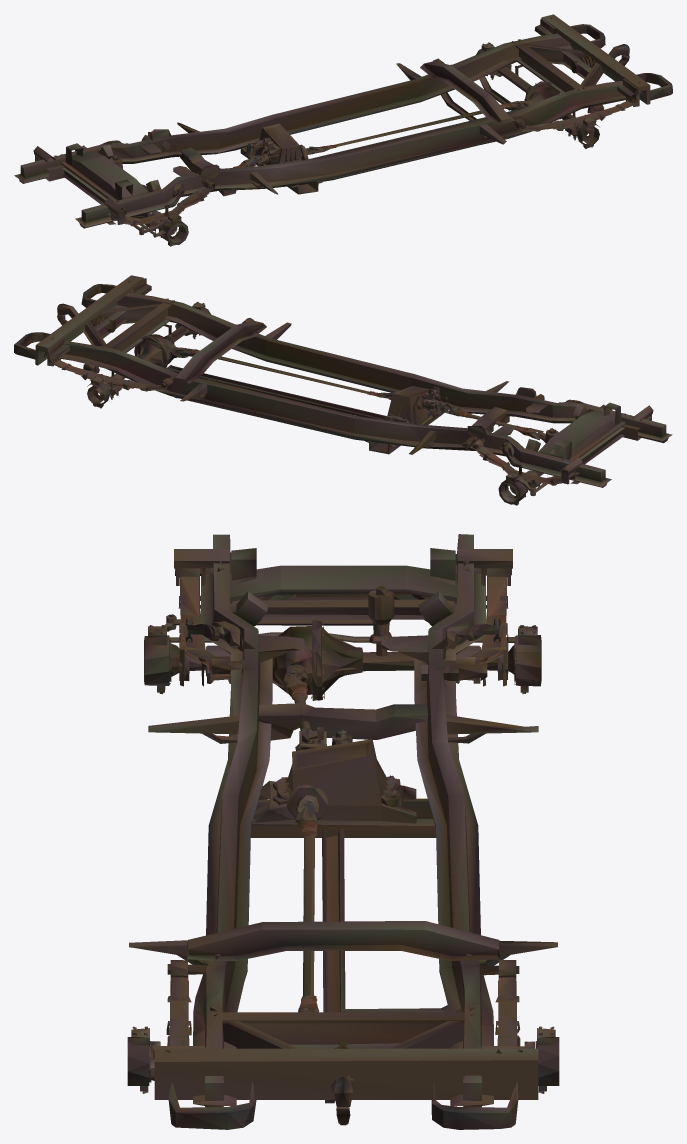
Rendered from chassis.glb.
3 renders of one model, top to bottom at view 1: azimuth 30°, elevation 25°; view 2: azimuth 150°, elevation 25°; view 3: azimuth 270°, elevation 25°, orthographic. The views are drawn at different scales.
Visible parts, largest first — view 1: chassis_q; view 2: chassis_q; view 3: chassis_q.
Part boxes in pixels (left/top/right/bottom): chassis_q: left=14, top=14, right=672, bottom=246; chassis_q: left=14, top=275, right=672, bottom=505; chassis_q: left=127, top=534, right=559, bottom=1129.
Bounding box in the file's own units: 5.94 × 0.5695 × 1.9.
